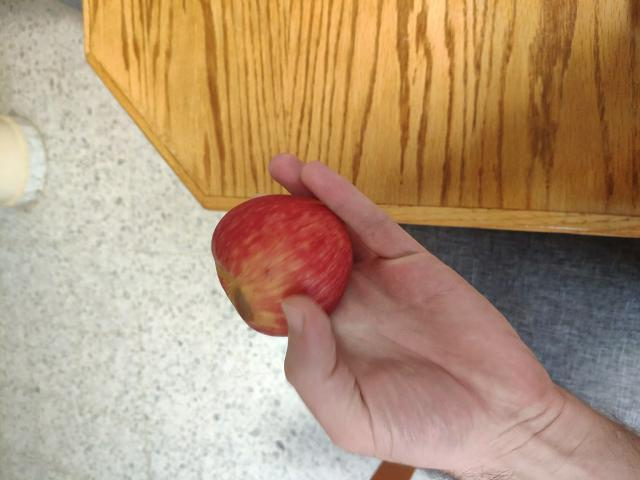apple: (202, 189, 381, 343)
